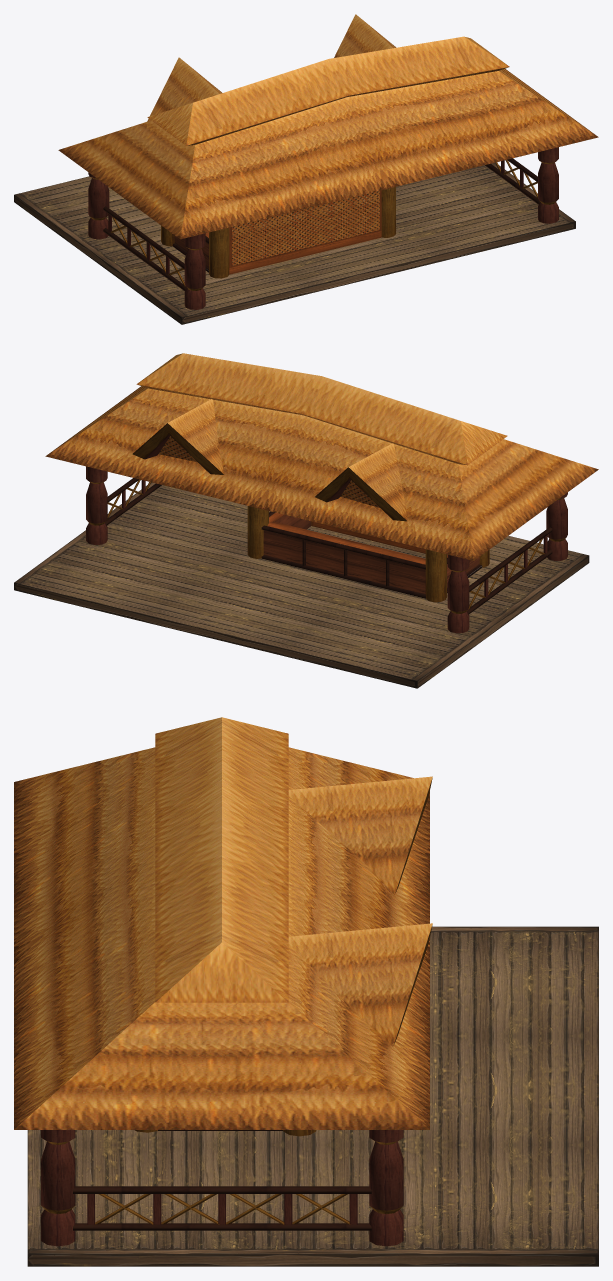
Rendered from ETC0610004.fbx.
3 views of the same model, one above another, from view 1: azimuth 30°, elevation 25°; view 2: azimuth 150°, elevation 25°; view 3: azimuth 270°, elevation 25° (orthographic). The views are drawn at different scales.
Parts seen in each view (by area): view 1: smETC0610004; view 2: smETC0610004; view 3: smETC0610004.
Part boxes in pixels (left/top/right/bottom): smETC0610004: left=14, top=14, right=598, bottom=324; smETC0610004: left=14, top=353, right=598, bottom=688; smETC0610004: left=14, top=717, right=598, bottom=1266.
Size of the model in its own units: 1397 by 556 by 993.
Materials: 1 (1 with a texture image).
